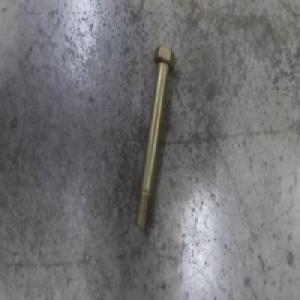Bolt: (134, 43, 176, 232)
